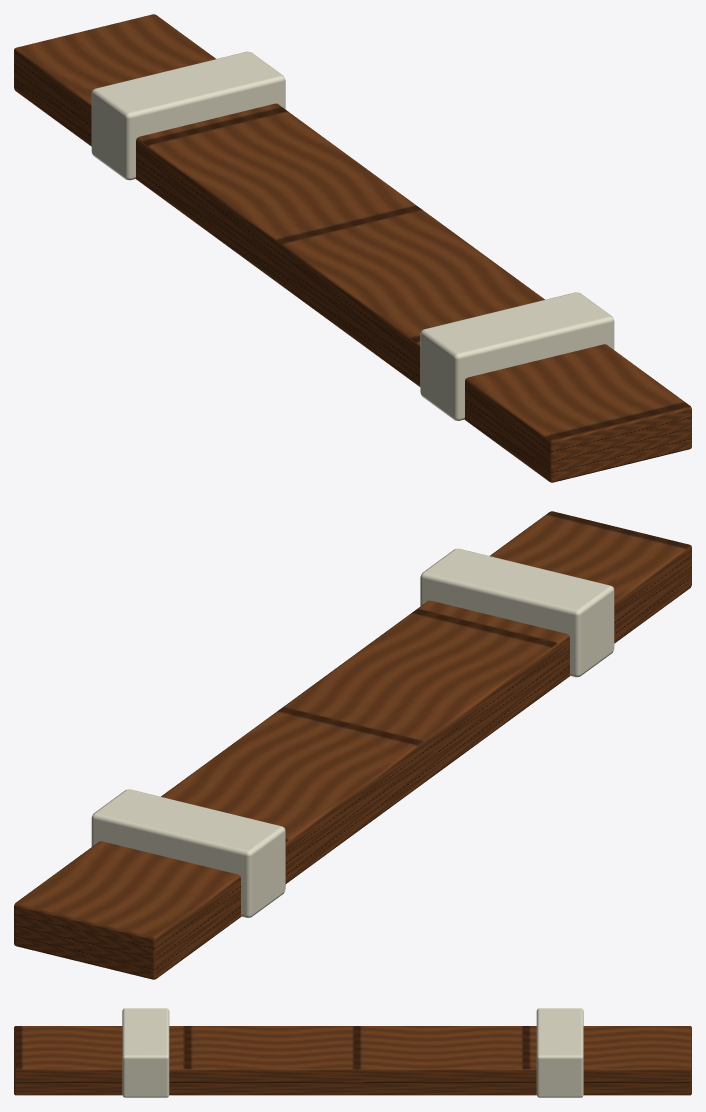
The model's file is field-medicine-and-recovery-wooden-arm-splint-086418dd__3042.glb.
3 views of the same model, one above another, from view 1: azimuth 30°, elevation 25°; view 2: azimuth 150°, elevation 25°; view 3: azimuth 270°, elevation 25° (orthographic). The views are drawn at different scales.
Parts seen in each view (by area): view 1: wooden-arm-splint; view 2: wooden-arm-splint; view 3: wooden-arm-splint.
Part boxes in pixels (x1,y1,x2,y2): wooden-arm-splint: (14, 14, 691, 482); wooden-arm-splint: (14, 511, 691, 979); wooden-arm-splint: (14, 1008, 691, 1097).
Bounding box in the file's own units: 0.062 × 0.025 × 0.36.
Materials: 2 (1 with a texture image).
